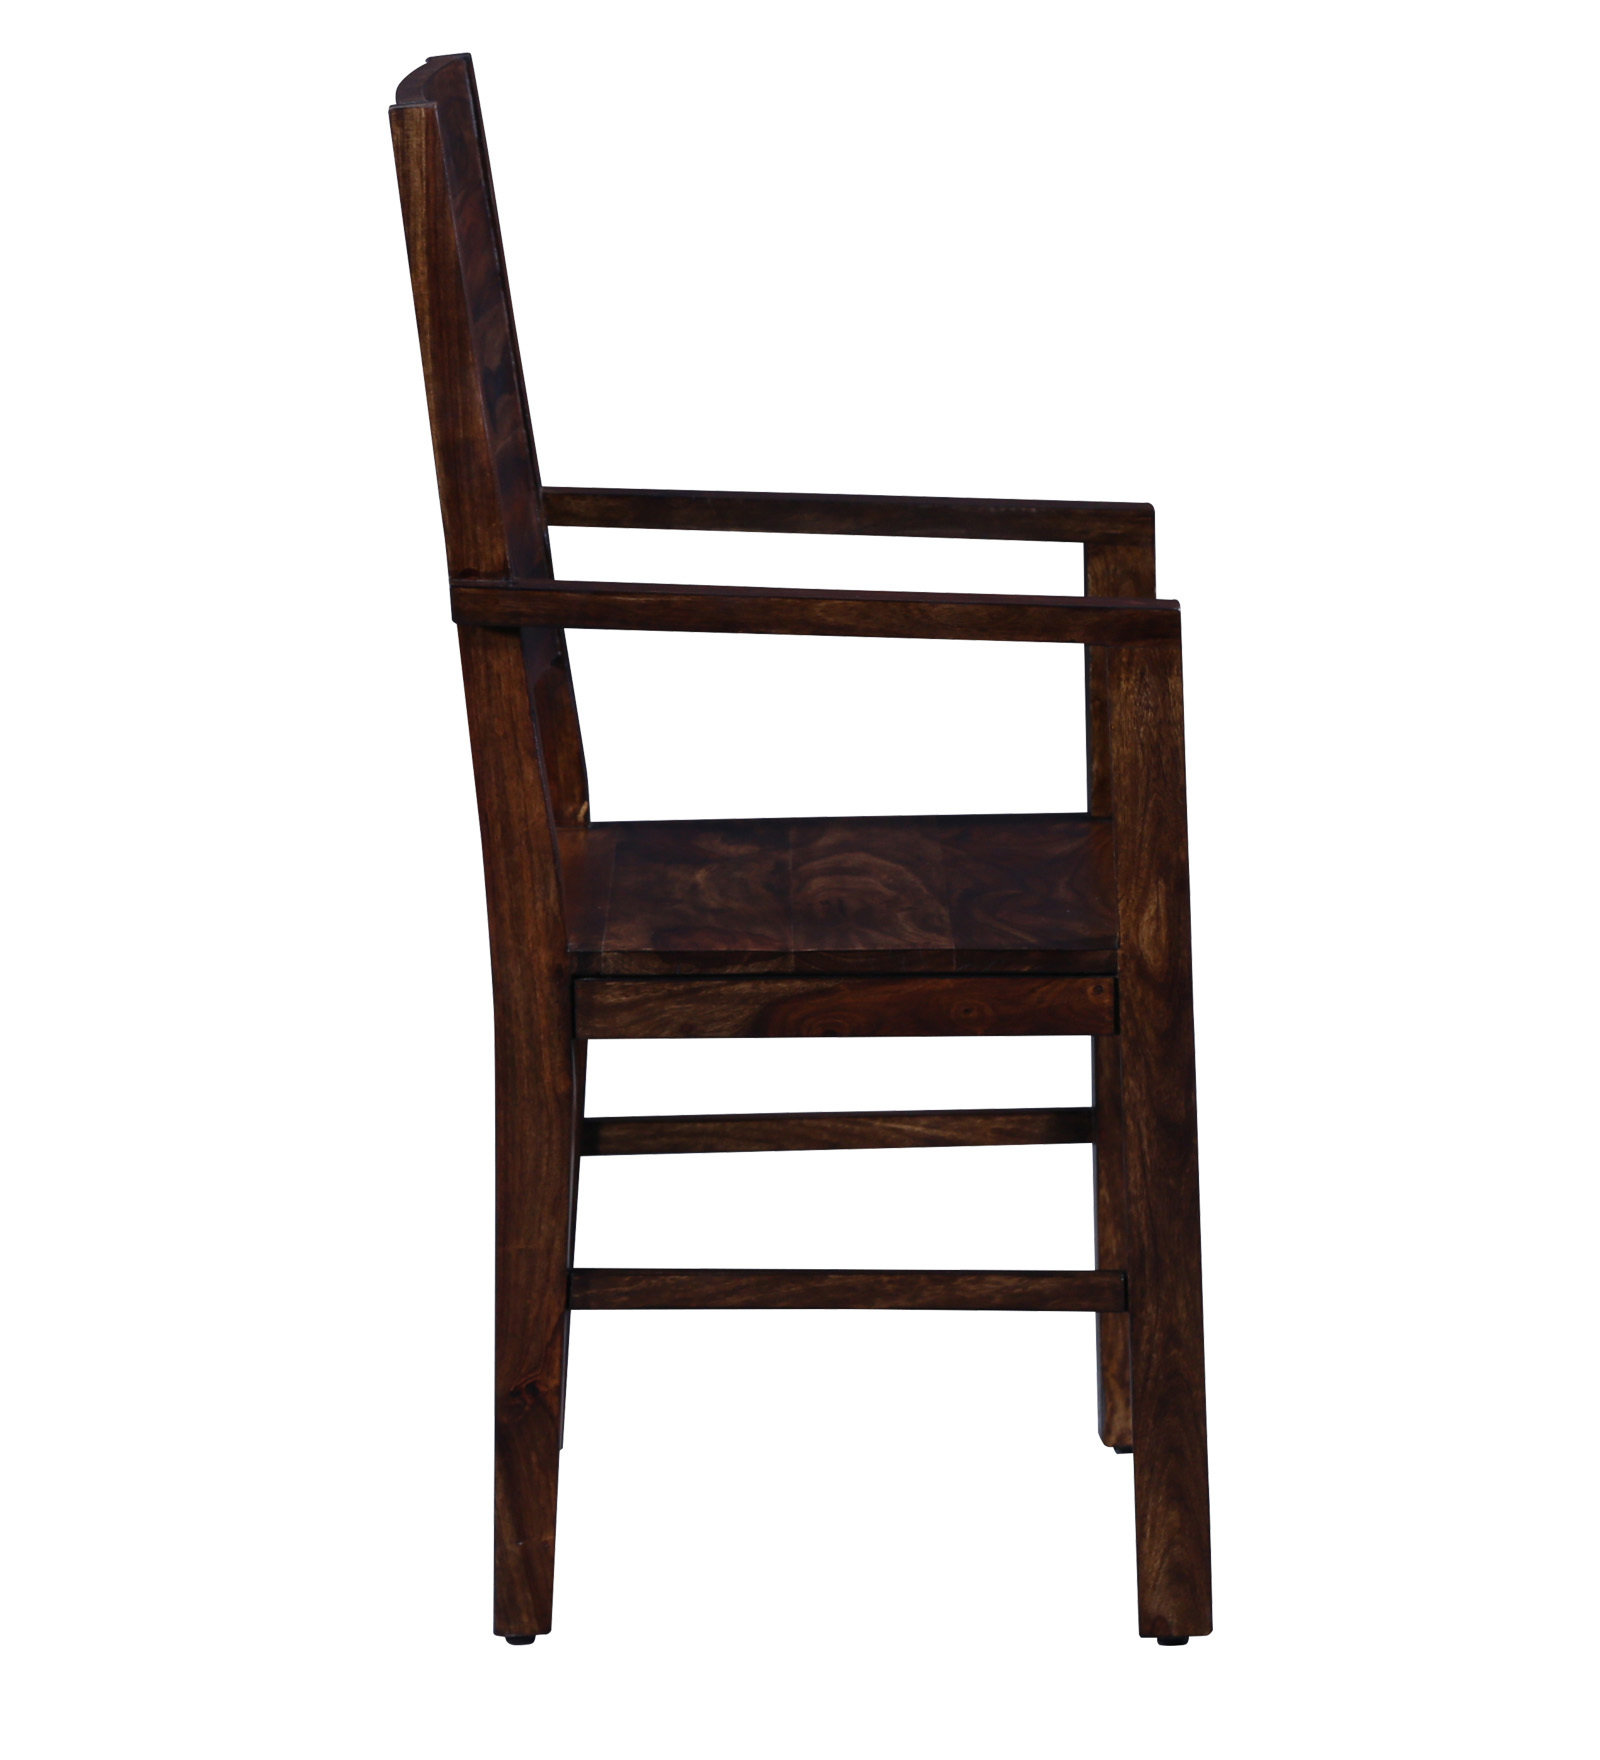Oriel Arm Chair in Provincial Teak Finish by Woodsworth: (375, 44, 1237, 1648)
